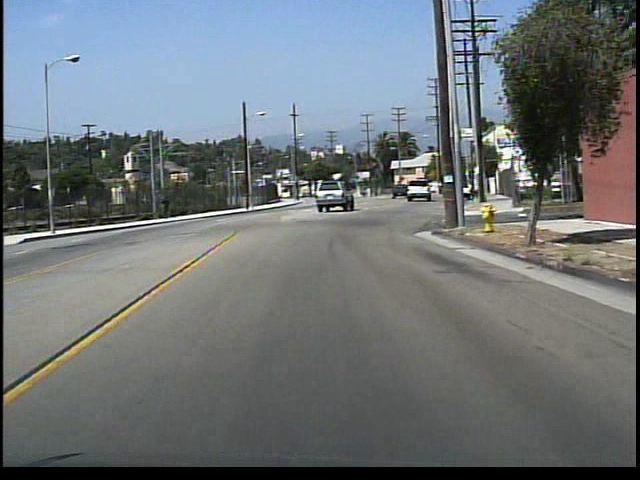person: (162, 191, 176, 220)
